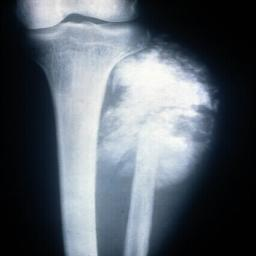cancer: (98, 47, 215, 199)
